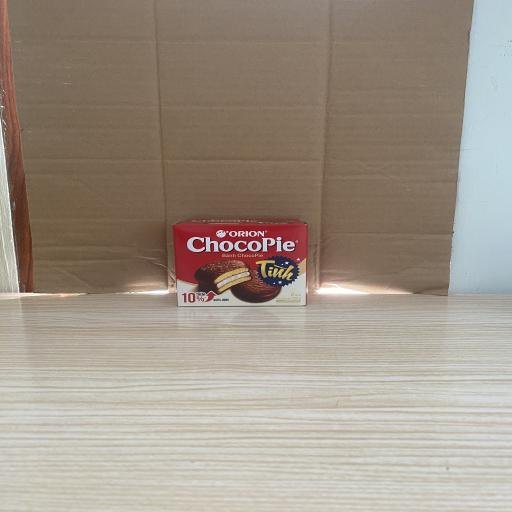chocopie: (172, 219, 308, 306)
